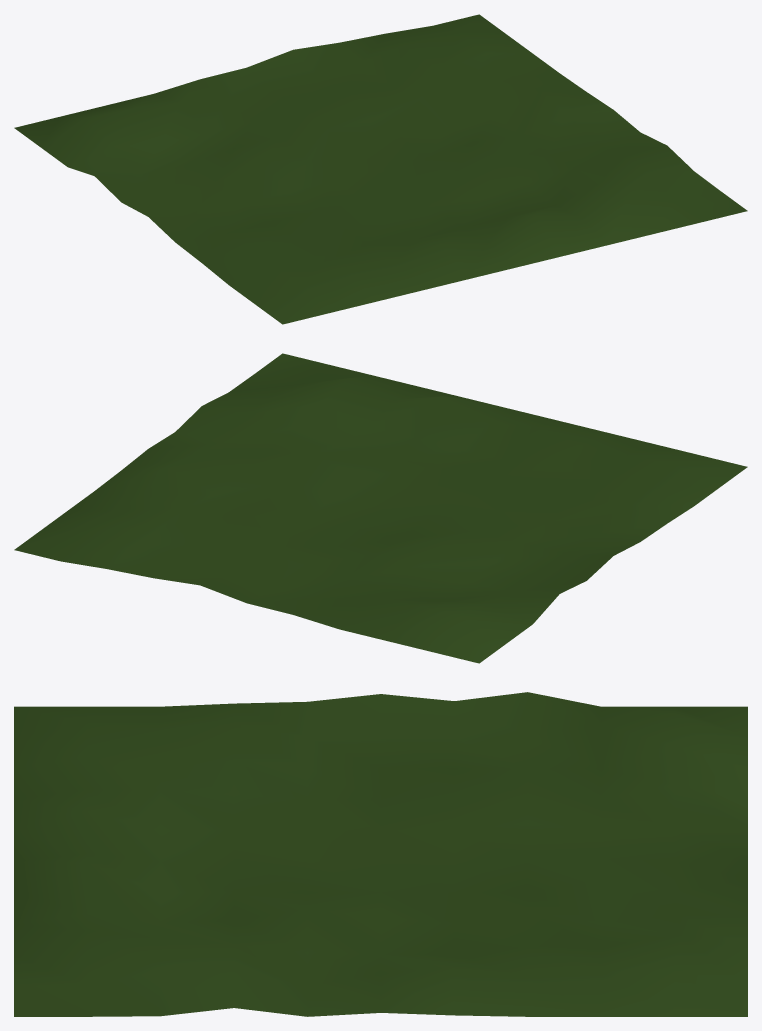
File: Ground.fbx
3 renders of one model, top to bottom at view 1: azimuth 30°, elevation 25°; view 2: azimuth 150°, elevation 25°; view 3: azimuth 270°, elevation 25°, orthographic. The views are drawn at different scales.
Visible parts, largest first — view 1: Ground; view 2: Ground; view 3: Ground.
Boxes of the visible parts, box(x1,y1,x2,y2) form: Ground: box(14, 14, 747, 324); Ground: box(14, 353, 747, 663); Ground: box(14, 692, 747, 1016).
Size of the model in its own units: 2400 by 109 by 2400.
